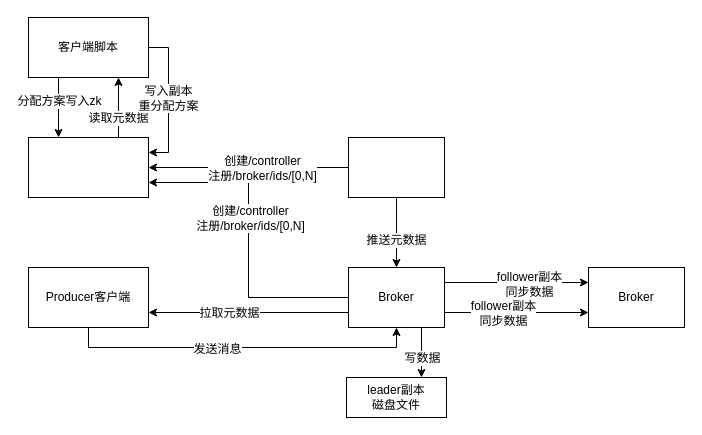
Image size: 702x435. Some labels were removed from this diagram. Here are the shapes that lost their labels. From the top down, the centre of each, then its label:
At (x=88, y=167): "zookeeper".
At (x=396, y=167): "Broker （Controller）".
